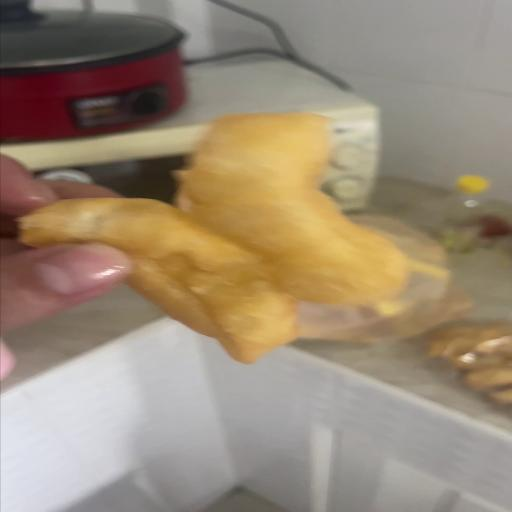street_golden_defect: (17, 108, 405, 363)
